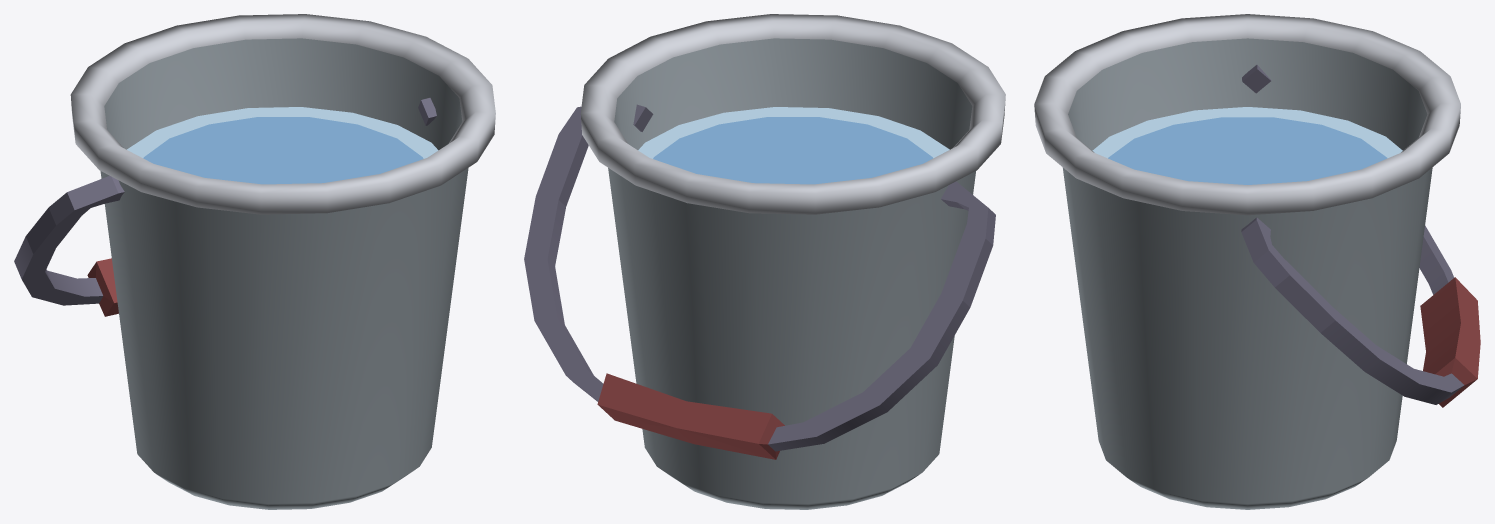
File: PailWithWater.fbx
3 renders of one model, left to right at view 1: azimuth 30°, elevation 25°; view 2: azimuth 150°, elevation 25°; view 3: azimuth 270°, elevation 25°, orthographic.
Visible parts, largest first — view 1: PalewithWater; view 2: PalewithWater; view 3: PalewithWater.
Boxes of the visible parts, x1,y1,x2,y2 form: PalewithWater: (14, 14, 495, 509); PalewithWater: (524, 14, 1005, 509); PalewithWater: (1034, 14, 1480, 509).
Size of the model in its own units: 36.87 by 28.97 by 33.44.
